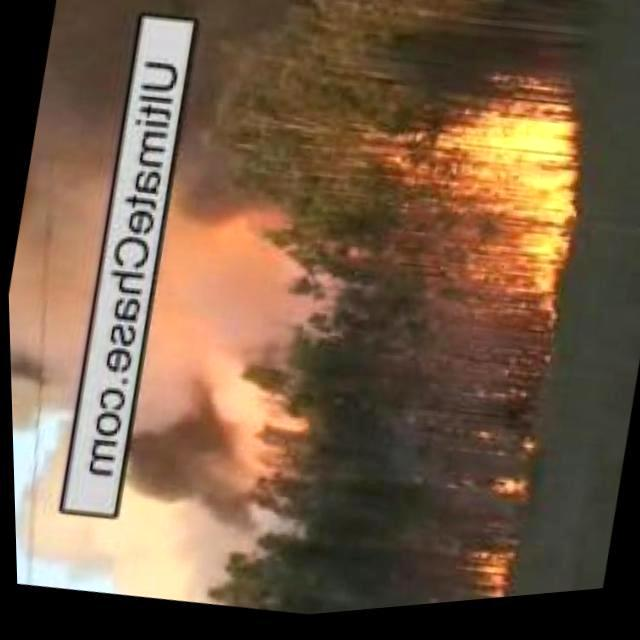fire: (418, 101, 594, 331), (447, 550, 513, 610), (476, 476, 526, 512)
